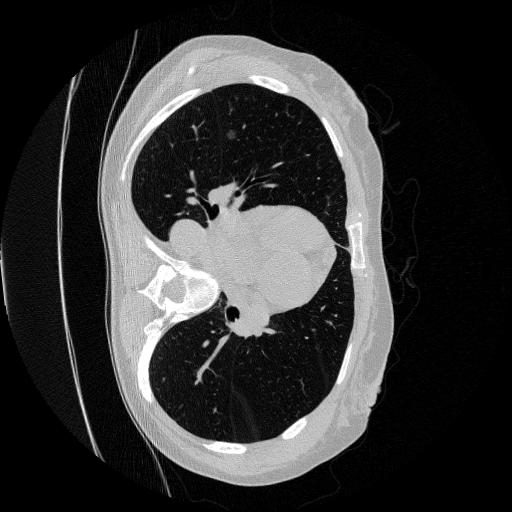nodule: (225, 130, 240, 145)
